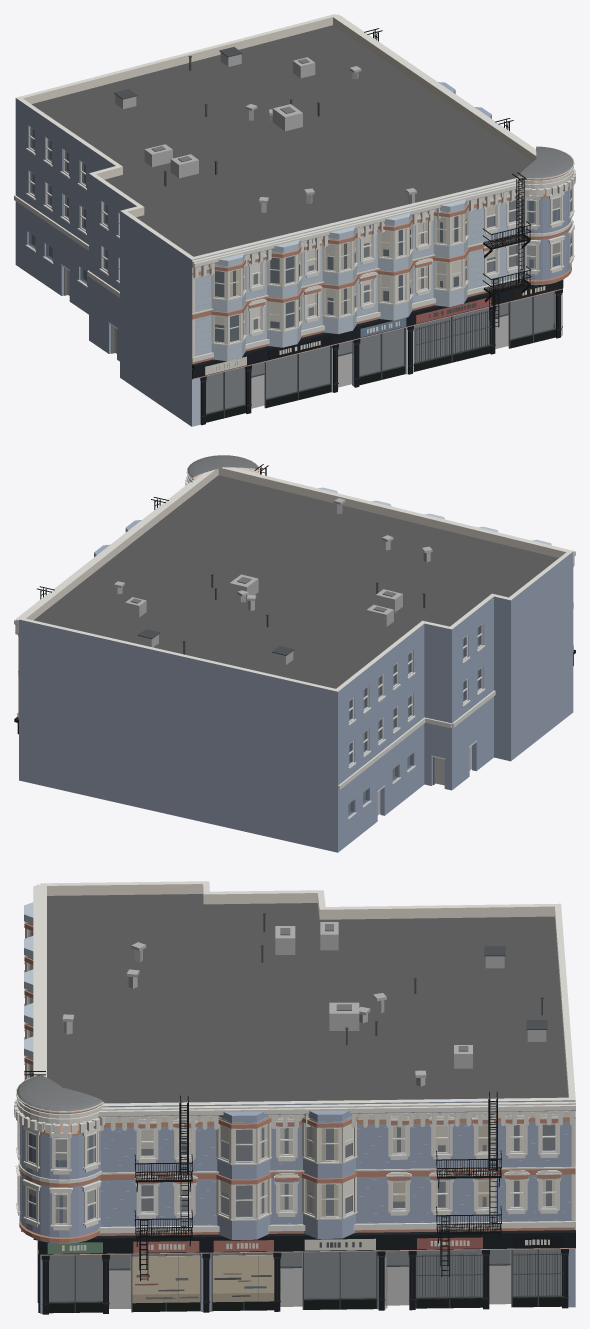
Rendered from exterior.glb.
3 renders of one model, top to bottom at view 1: azimuth 30°, elevation 25°; view 2: azimuth 150°, elevation 25°; view 3: azimuth 270°, elevation 25°, orthographic. The views are drawn at different scales.
Visible parts, largest first — view 1: roof, shell, glazing, shadow-proxy, trim, bay-dress-0, sign-fascia-0, bay-windows.001, bay-windows-turret, bay-glazing.001, storefront, bay-glazing.002 (+7 smaller); view 2: shell, roof, trim, rooftop-units, rooftop-clutter, glazing, bay-windows-turret, frames, shadow-proxy; view 3: roof, shell, trim, shadow-proxy, glazing, sign-fascia-1, bay-windows-turret, bay-dress-1, storefront, bay-windows, bay-glazing, relief-shop-1 (+11 smaller).
Part boxes in pixels (x1,y1,x2,y2): roof: (31, 25, 532, 256); shell: (15, 14, 561, 426); glazing: (29, 127, 555, 413); shadow-proxy: (32, 129, 553, 412); trim: (14, 14, 562, 379); bay-dress-0: (211, 203, 469, 345); sign-fascia-0: (192, 280, 562, 379); bay-windows.001: (211, 199, 467, 361); bay-windows-turret: (518, 146, 575, 285); bay-glazing.001: (214, 210, 467, 343); storefront: (61, 264, 555, 422); bay-glazing.002: (215, 216, 466, 341); shell: (19, 467, 573, 852); roof: (34, 475, 558, 688); trim: (14, 467, 575, 819); rooftop-units: (125, 574, 402, 626); rooftop-clutter: (114, 498, 432, 665); glazing: (348, 625, 480, 815); bay-windows-turret: (185, 455, 260, 485); frames: (349, 623, 482, 766); shadow-proxy: (348, 627, 478, 815); roof: (47, 894, 568, 1103); shell: (40, 881, 575, 1313); trim: (33, 884, 575, 1255); shadow-proxy: (49, 1125, 561, 1308); glazing: (49, 1124, 561, 1301); sign-fascia-1: (40, 1230, 575, 1303); bay-windows-turret: (14, 1075, 105, 1243); bay-dress-1: (216, 1117, 357, 1220); storefront: (49, 1249, 561, 1313); bay-windows: (217, 1110, 355, 1239); bay-glazing: (219, 1123, 353, 1218); relief-shop-1: (41, 1249, 568, 1314).
Bounding box in the file's own units: 29.55 × 12.6 × 29.66.
